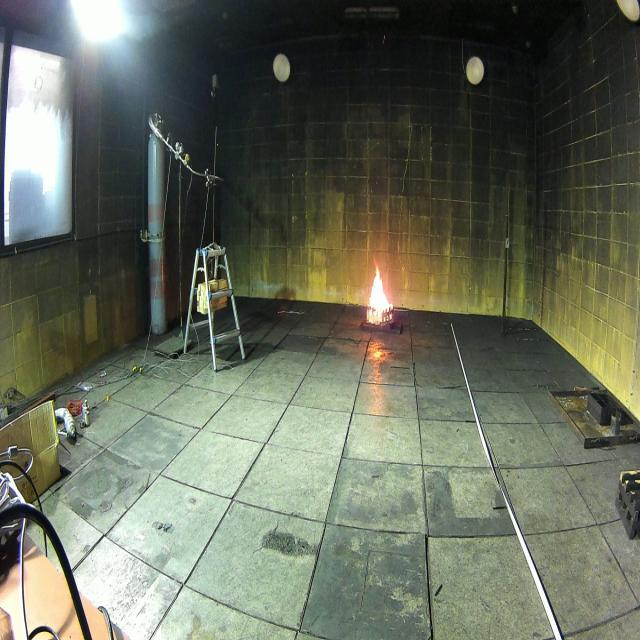Fire: (366, 258, 394, 324)
